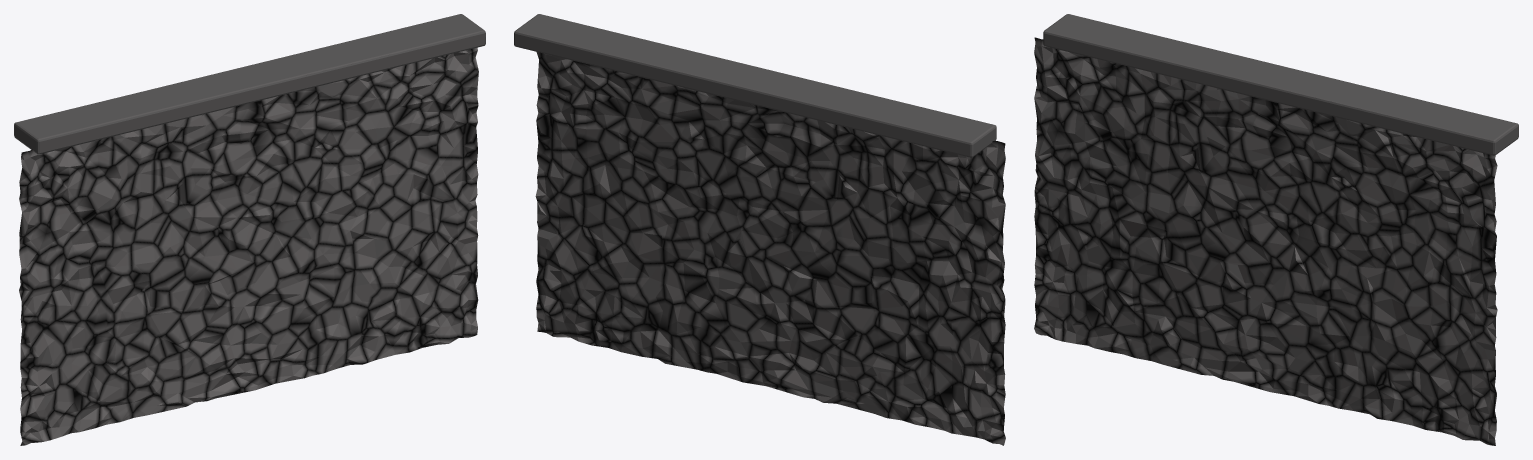
The model's file is FenceWall.fbx.
3 renders of one model, left to right at view 1: azimuth 30°, elevation 25°; view 2: azimuth 150°, elevation 25°; view 3: azimuth 330°, elevation 25°, orthographic. The views are drawn at different scales.
Parts seen in each view (by area): view 1: FenceWall.001; view 2: FenceWall.001; view 3: FenceWall.001.
Boxes of the visible parts, <box> form: FenceWall.001: <box>14,14,485,445</box>; FenceWall.001: <box>514,14,1005,445</box>; FenceWall.001: <box>1034,14,1518,445</box>.
Size of the model in its own units: 36.26 by 391 by 249.
1 material, 1 textured.
